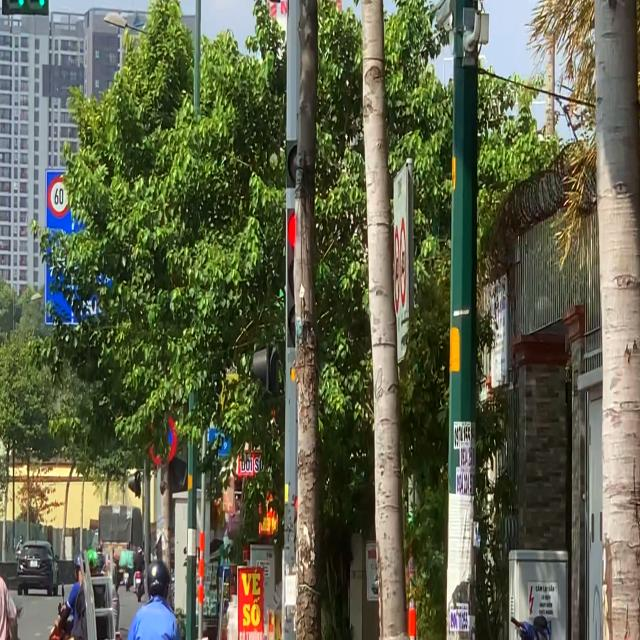Toc do toi da: (47, 175, 71, 218)
